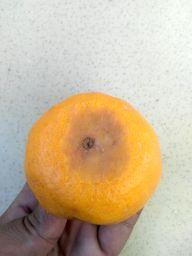Unripe: (25, 95, 158, 230)
